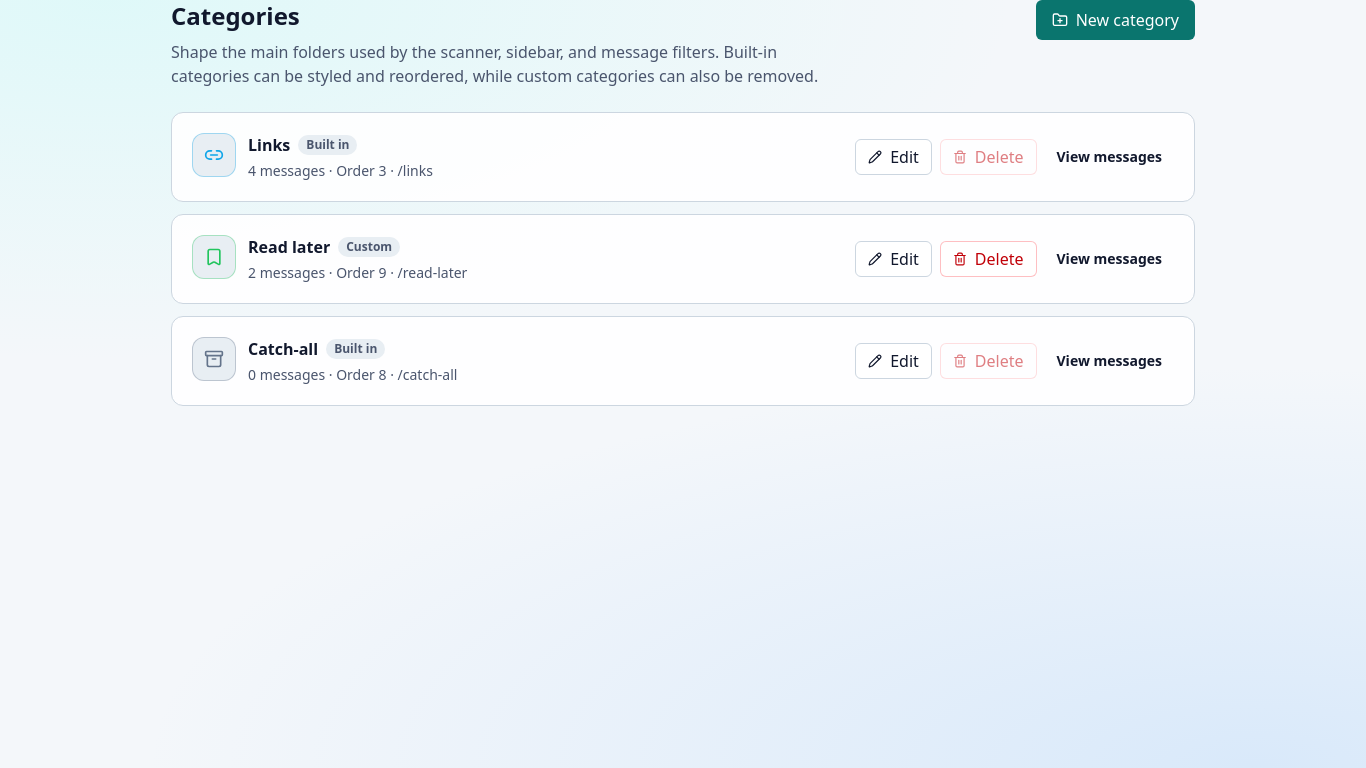
CategoriesPage › edits and deletes a custom category with explicit confirmation
This screenshot has width=1366, height=768.
Click the button with aria-label "Edit Read later": (894, 259) [855,241,932,277]
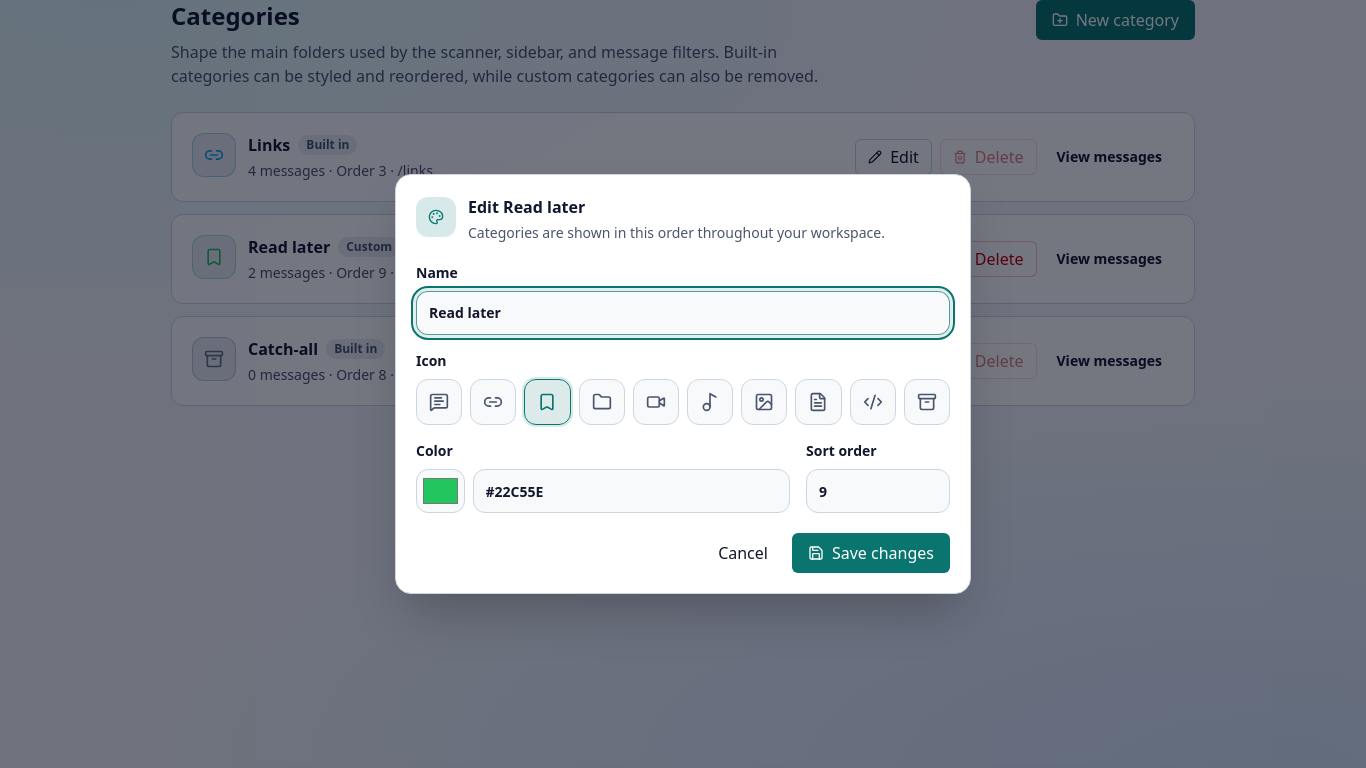
Replace the text in the field labelled "Name" with "Reading": (683, 313) [416,291,950,335]
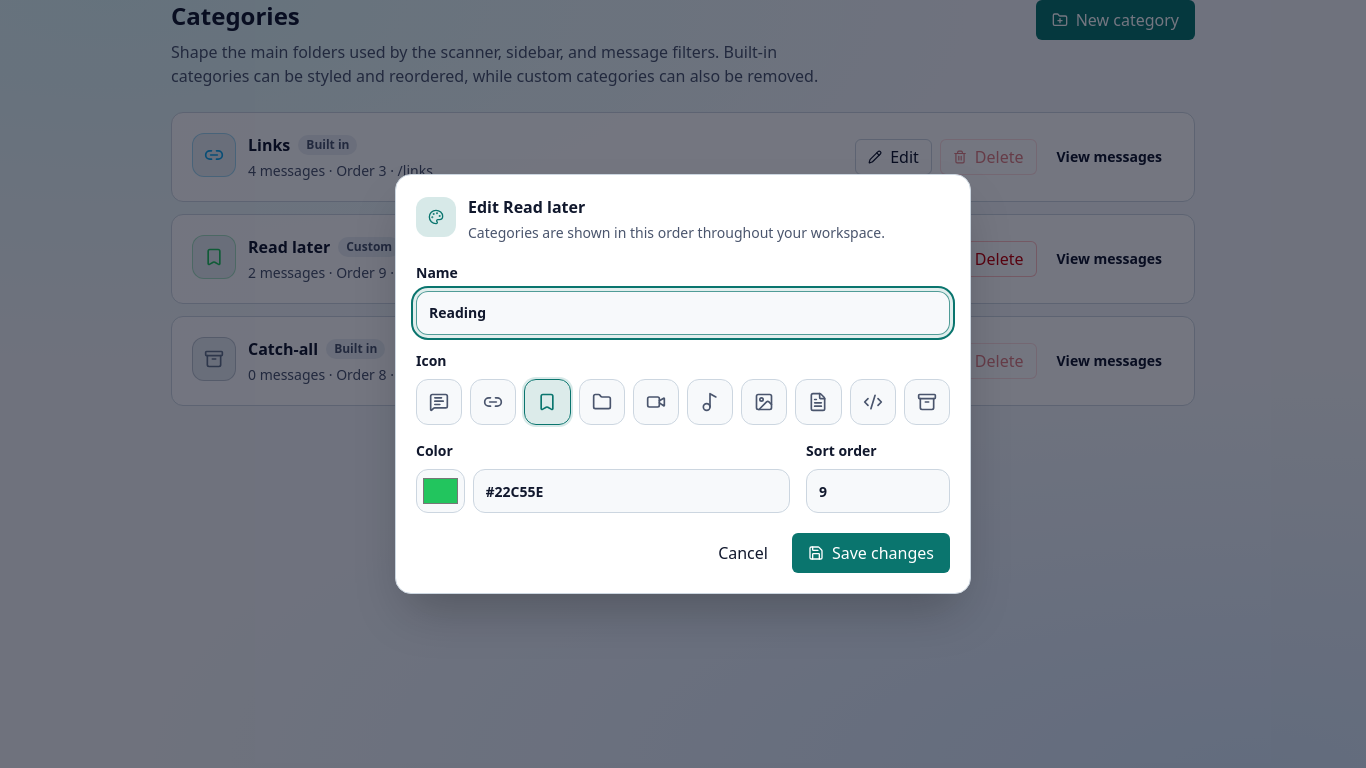
Click the button "Save changes": (871, 553) [792,533,950,573]
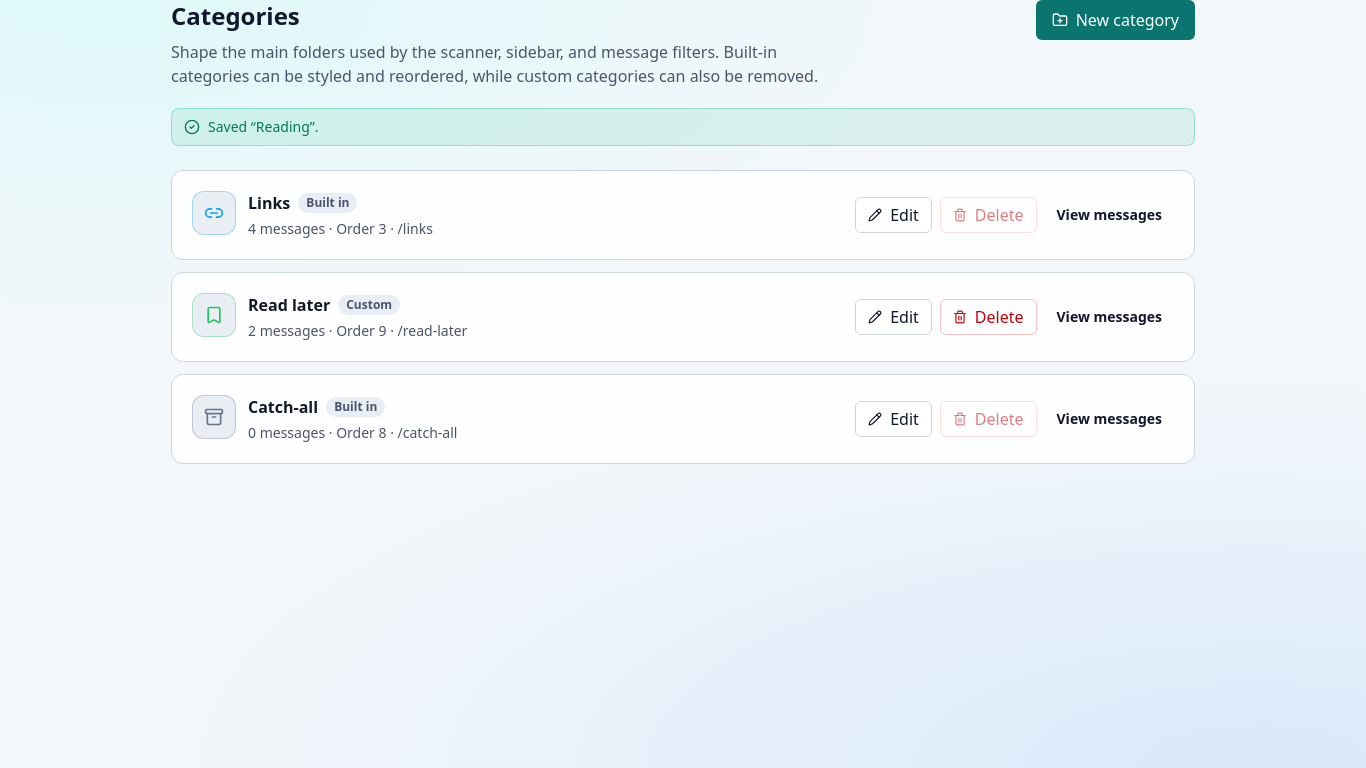
Click the button with aria-label "Delete Read later": (988, 317) [940,299,1037,335]
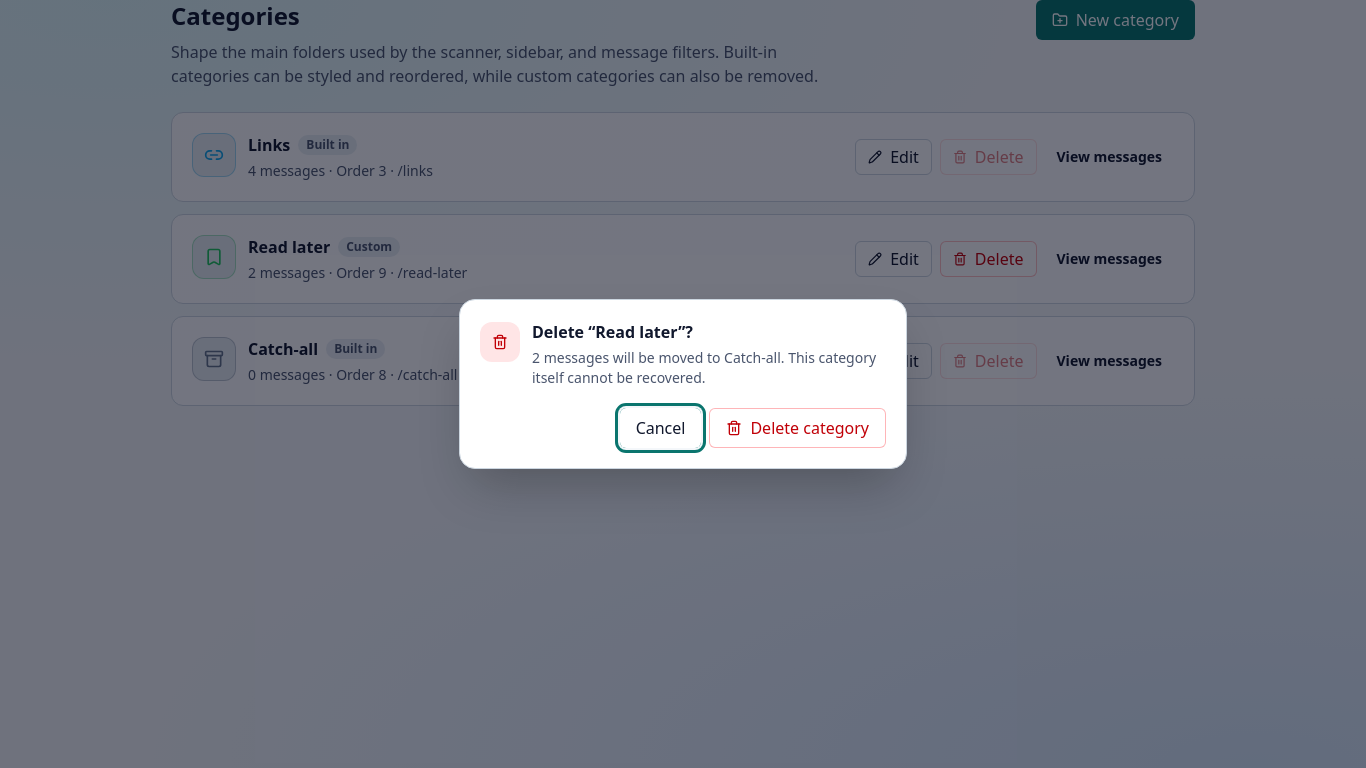
expect the text "2 messages will be moved to Catch-all. This category itself cannot be recovered." is shown: met, box [532,348,886,388]
Click the button "Delete category": (798, 428) [709,408,886,448]
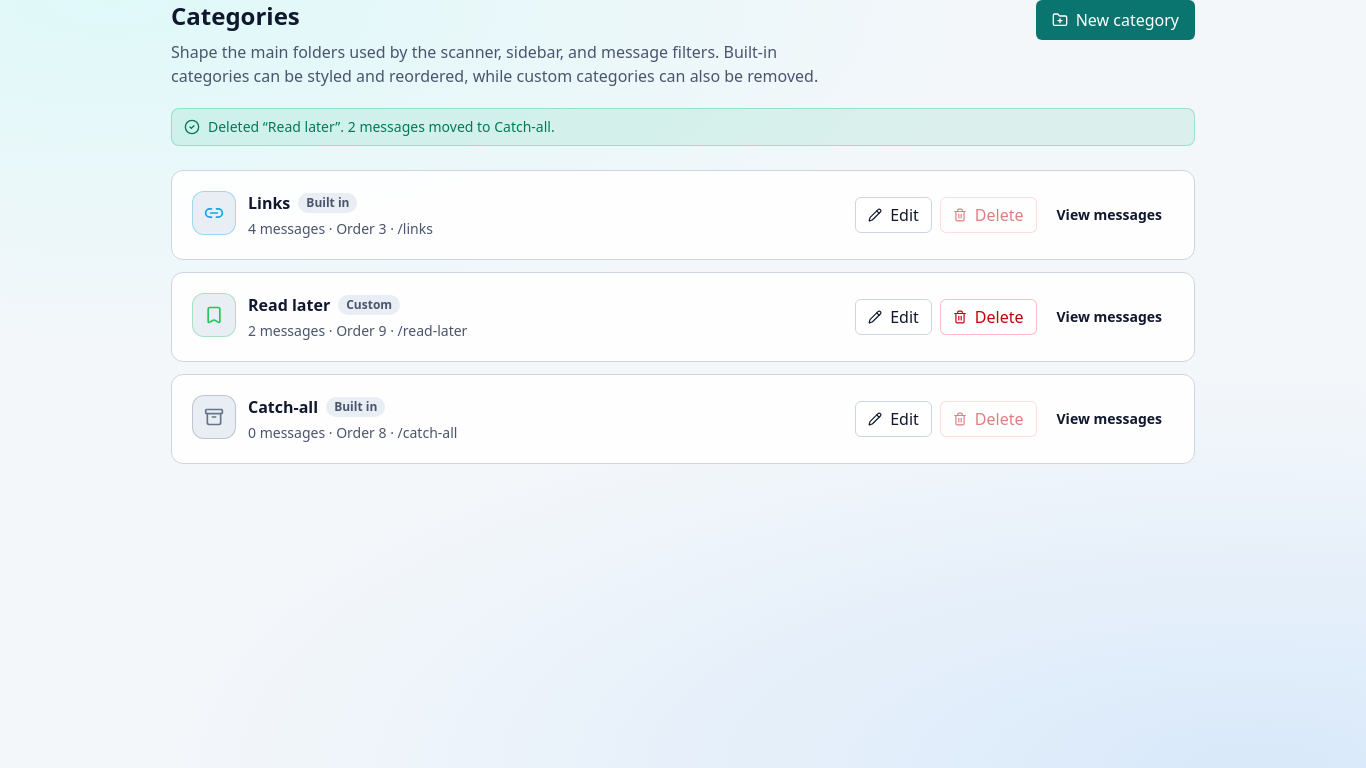
expect the text "Deleted “Read later”. 2 messages moved to Catch-all." is shown: met, box [208,117,555,137]
